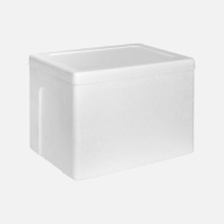foam_box: (23, 38, 202, 184)
